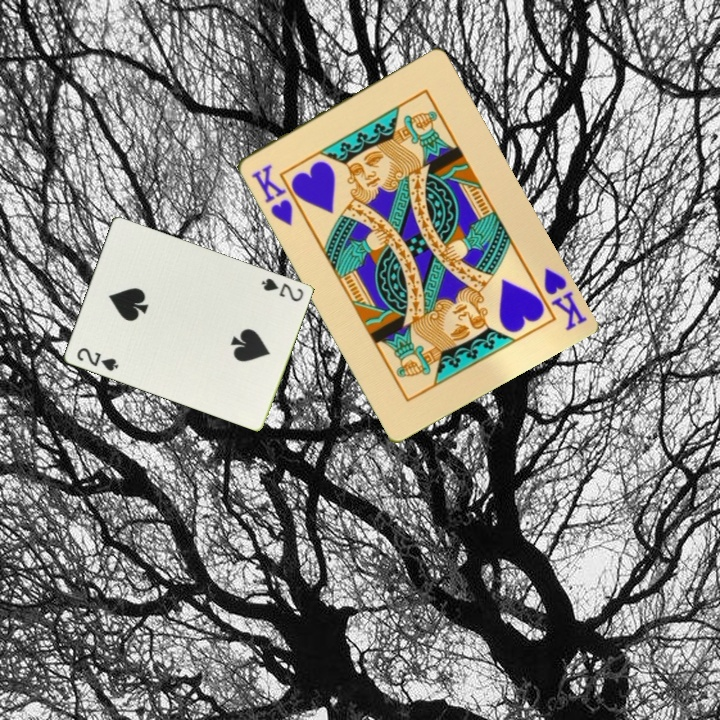2s: (257, 275, 306, 305), (73, 344, 121, 374)
Kh: (539, 264, 589, 334), (246, 160, 295, 229)
